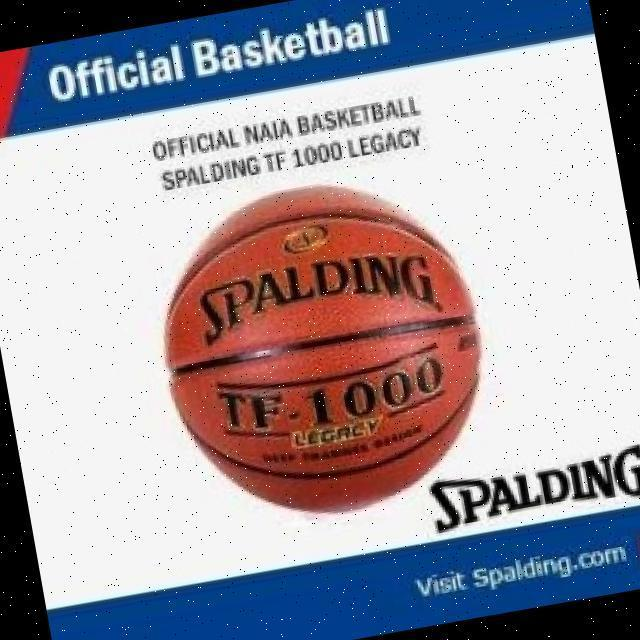ball: (138, 158, 508, 532)
